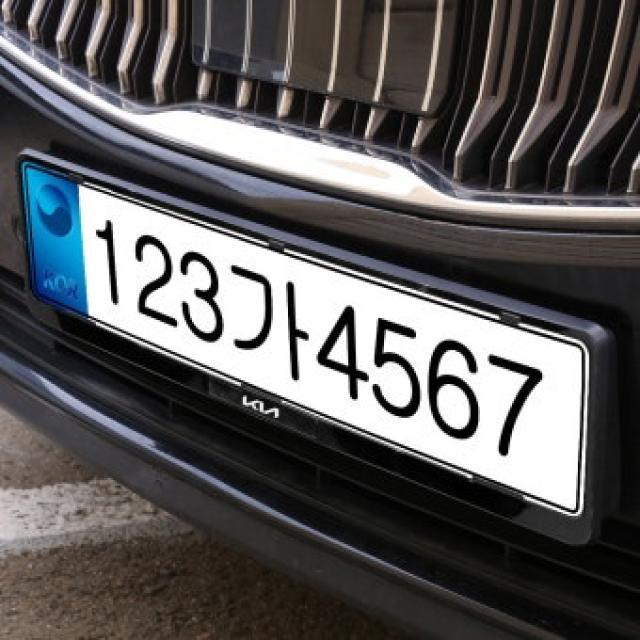car: (8, 127, 620, 565)
